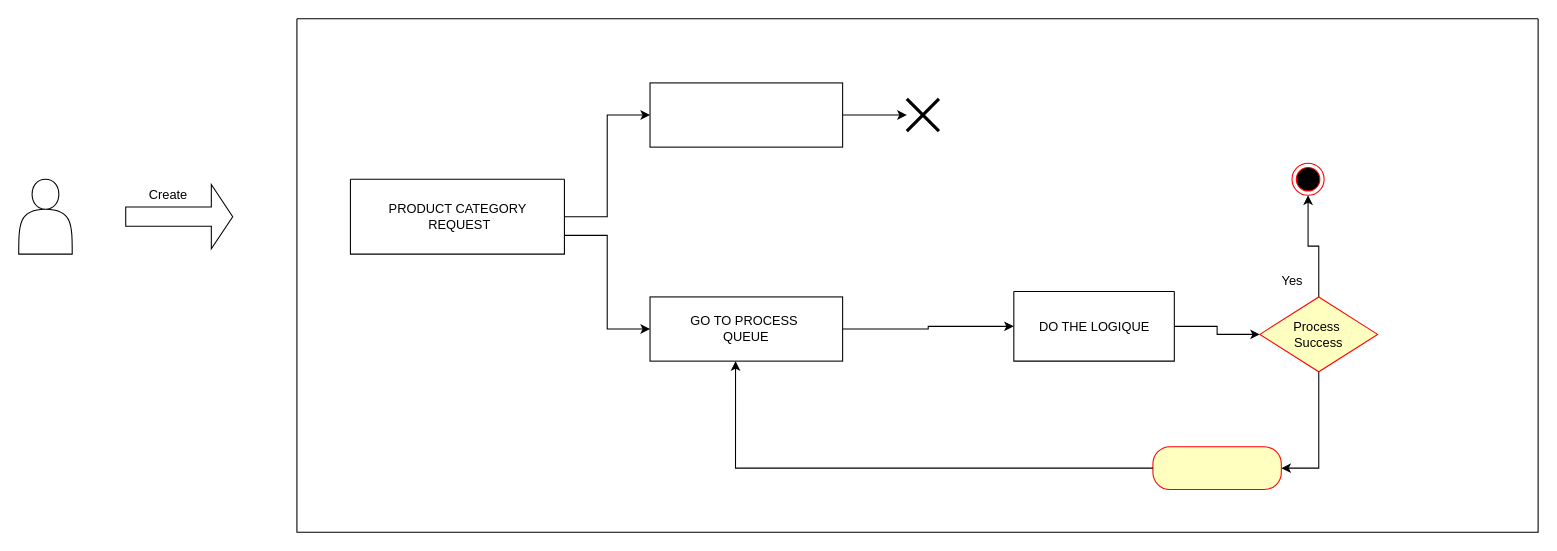
Image size: 1557x551. Some labels were removed from this diagram. Each missing label, with the centre of its shape:
"ADDING TO PROCCESS QUEUE" goes at (746,114).
"Return to proccess" goes at (1216,468).
